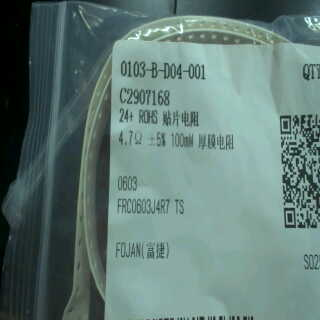4.7R: (117, 128, 147, 148)
